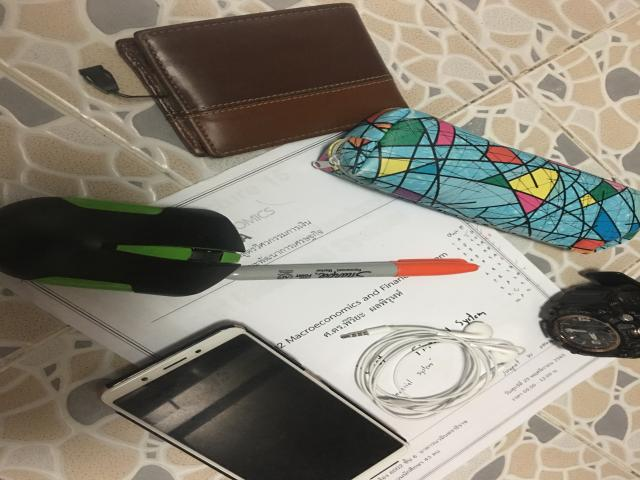Mobile phone: (102, 326, 407, 480)
Mouse: (2, 197, 245, 296)
Pen: (228, 258, 478, 279)
Wallet: (117, 4, 407, 157)
Watch: (540, 272, 640, 358)
paper: (0, 110, 630, 480)
wire: (340, 322, 523, 418)
